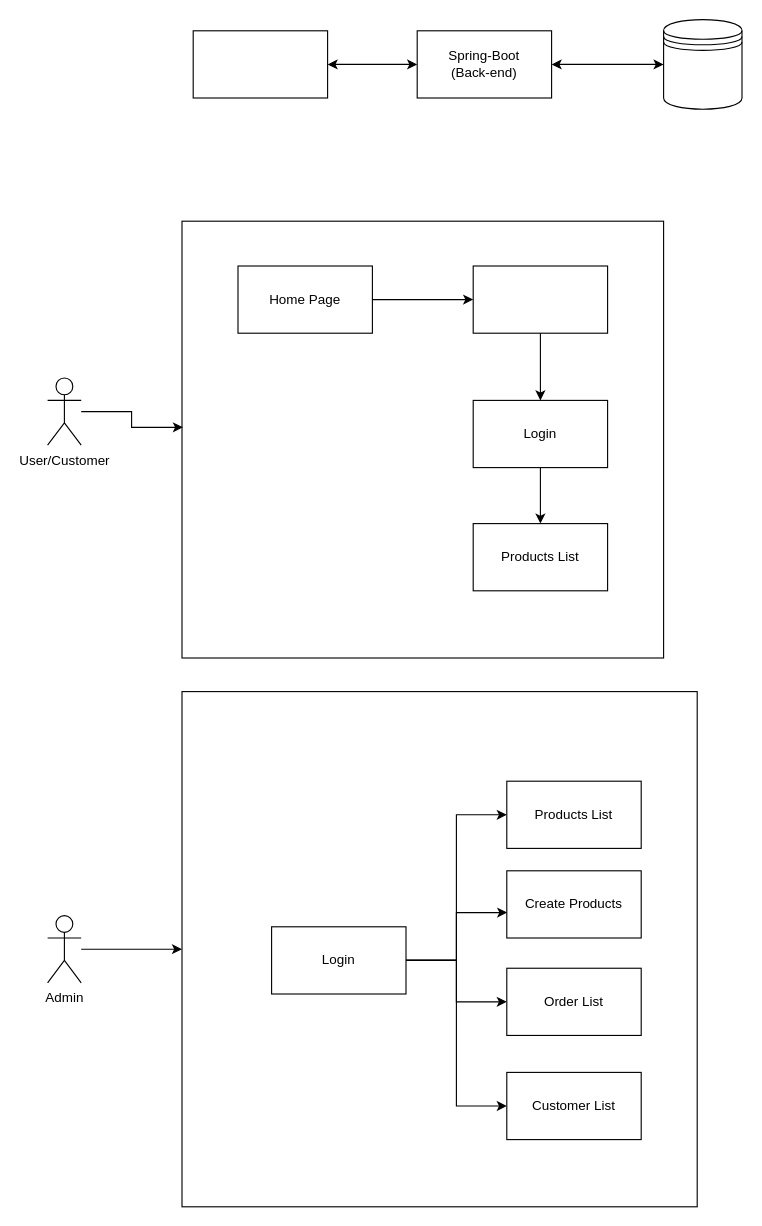
The diagram is 762 pixels wide and 1226 high, and some of its shapes have lost their labels. Here are the shapes that lost their labels. From the top down, the box of each, then its label:
(192, 30, 328, 98): React (Front-end)
(662, 18, 742, 109): Database
(472, 265, 608, 333): Register
